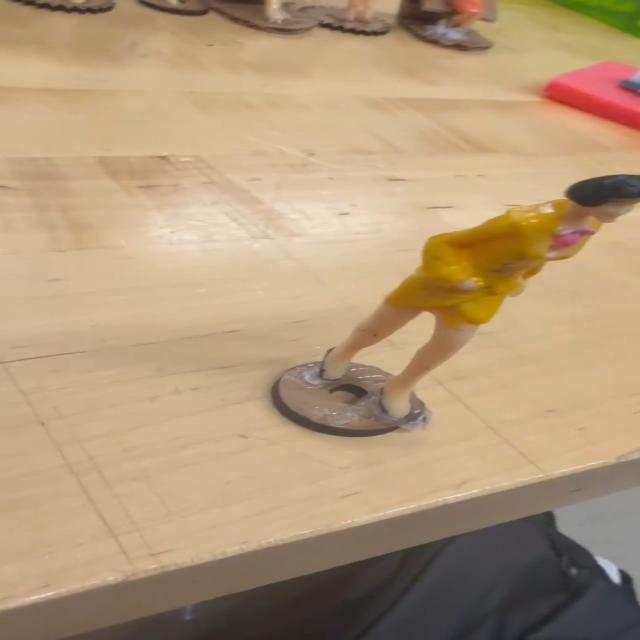Authorized: (281, 161, 640, 442)
